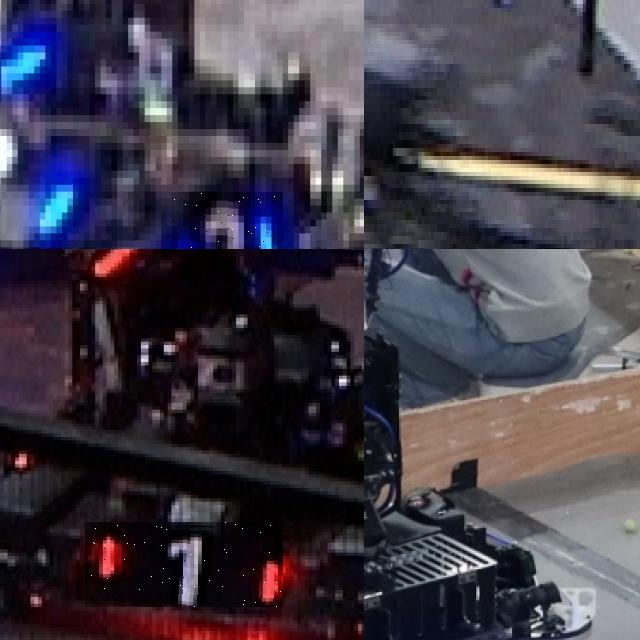B3: (172, 191, 282, 249)
R1: (85, 522, 284, 607)
